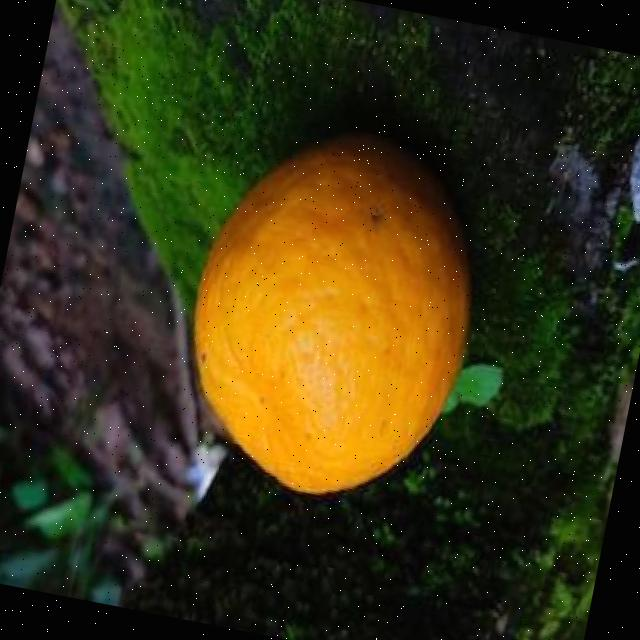orange: (164, 108, 503, 518)
